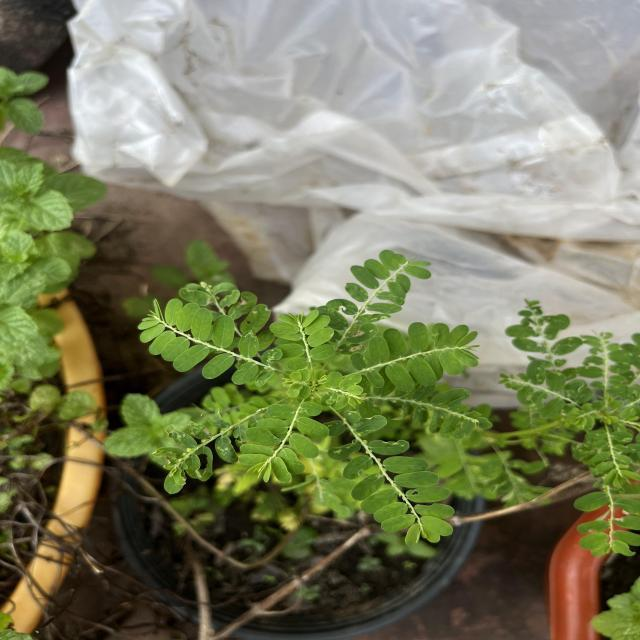Phyllanthus niruri: (324, 408, 458, 548), (135, 296, 283, 386), (321, 246, 434, 344), (345, 318, 483, 394), (238, 398, 330, 486), (272, 306, 338, 378)
